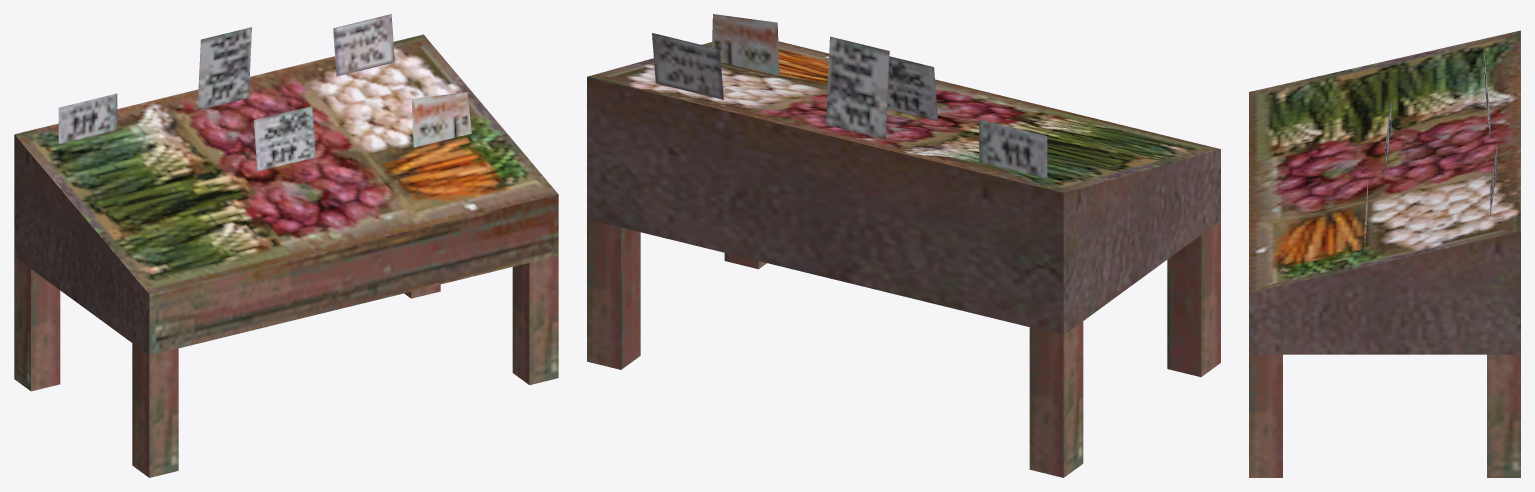
The model's file is vendorstall_vegetables.fbx.
The picture shows the model from 3 angles, left to right: view 1: azimuth 30°, elevation 25°; view 2: azimuth 150°, elevation 25°; view 3: azimuth 270°, elevation 25°; orthographic projection. The views are drawn at different scales.
Visible parts, largest first — view 1: mesh_9, mesh_0, mesh_3, mesh_1, mesh_4, mesh_8, mesh_5, mesh_7, mesh_6; view 2: mesh_9, mesh_1, mesh_2, mesh_0, mesh_4, mesh_5, mesh_7, mesh_6, mesh_8; view 3: mesh_9, mesh_2, mesh_3.
Boxes of the visible parts, x1,y1,x2,y2 form: mesh_9: (14,34,558,355); mesh_0: (132,343,178,477); mesh_3: (512,256,558,384); mesh_1: (14,257,60,391); mesh_4: (197,27,251,110); mesh_8: (254,106,315,171); mesh_5: (333,14,394,76); mesh_7: (412,92,471,147); mesh_6: (58,93,117,144); mesh_9: (587,41,1220,335); mesh_1: (1029,321,1083,477); mesh_2: (587,219,640,369); mesh_0: (1167,220,1220,376); mesh_4: (826,36,889,139); mesh_5: (652,33,723,99); mesh_7: (712,14,779,76); mesh_6: (979,119,1047,178); mesh_8: (887,56,937,120); mesh_9: (1249,30,1520,354); mesh_2: (1487,354,1520,477); mesh_3: (1249,354,1282,477).
Bounding box in the file's own units: 140 × 102 × 80.
1 material, 1 textured.
